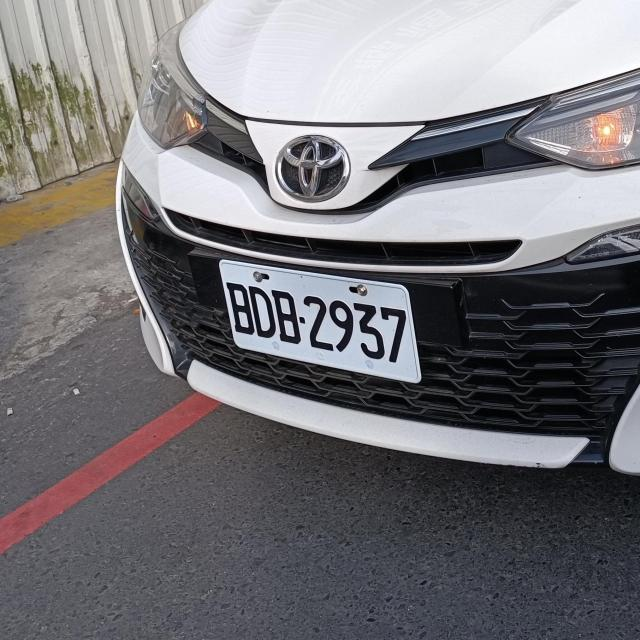W: (214, 263, 422, 386)
